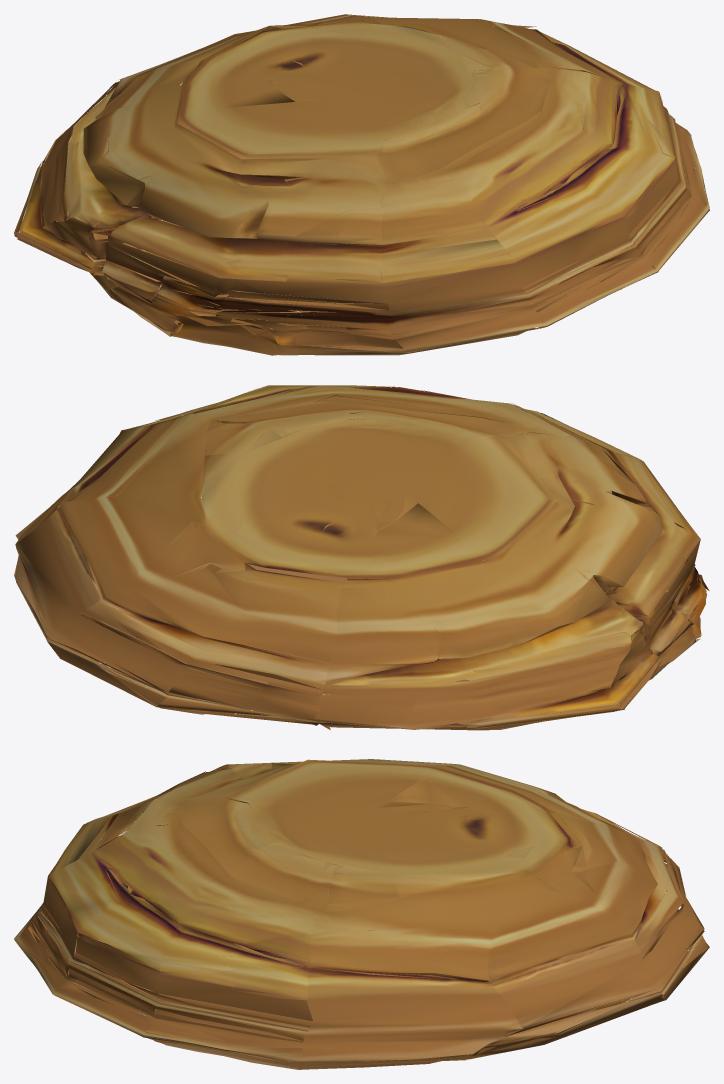
File: desert_boulder_flat.glb
The picture shows the model from 3 angles, top to bottom: view 1: azimuth 30°, elevation 25°; view 2: azimuth 150°, elevation 25°; view 3: azimuth 270°, elevation 25°; orthographic projection. The views are drawn at different scales.
Visible parts, largest first — view 1: desert_boulder_flat; view 2: desert_boulder_flat; view 3: desert_boulder_flat.
Boxes of the visible parts, x1,y1,x2,y2 form: desert_boulder_flat: [14, 14, 709, 355]; desert_boulder_flat: [14, 385, 709, 730]; desert_boulder_flat: [14, 759, 709, 1069].
Size of the model in its own units: 1.9 by 0.5713 by 1.92.
Materials: 1 (1 with a texture image).
